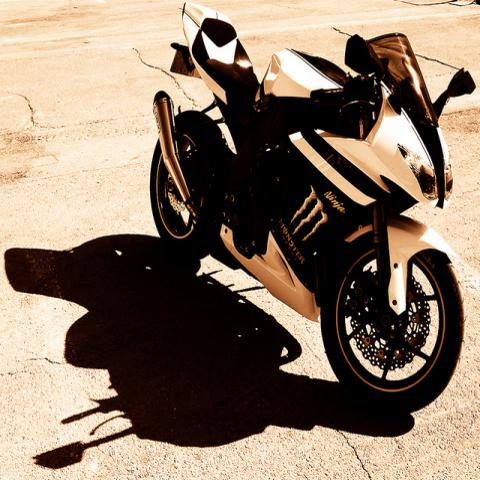motorcycle: (148, 13, 479, 418)
